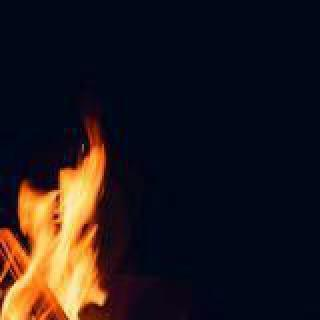fire: (0, 72, 122, 320)
